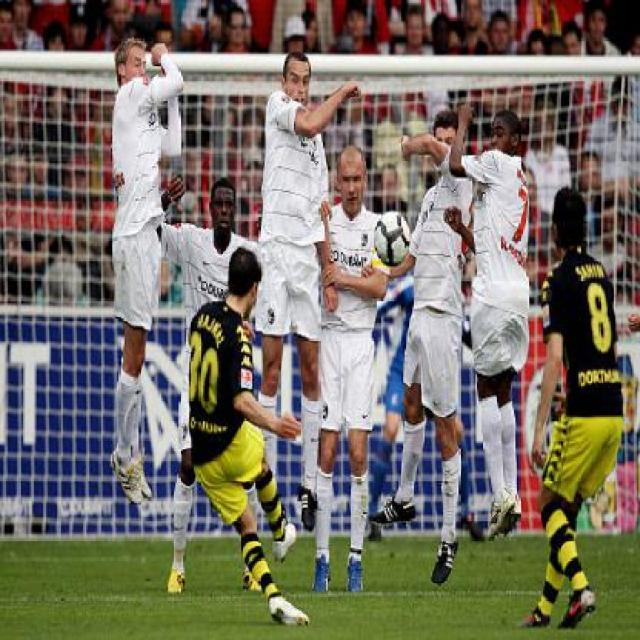ball: (370, 209, 410, 266)
player: (514, 189, 628, 631), (86, 30, 183, 513), (193, 258, 316, 627), (309, 149, 392, 597), (395, 103, 471, 592), (470, 109, 541, 549), (261, 48, 324, 542), (161, 172, 257, 311)
